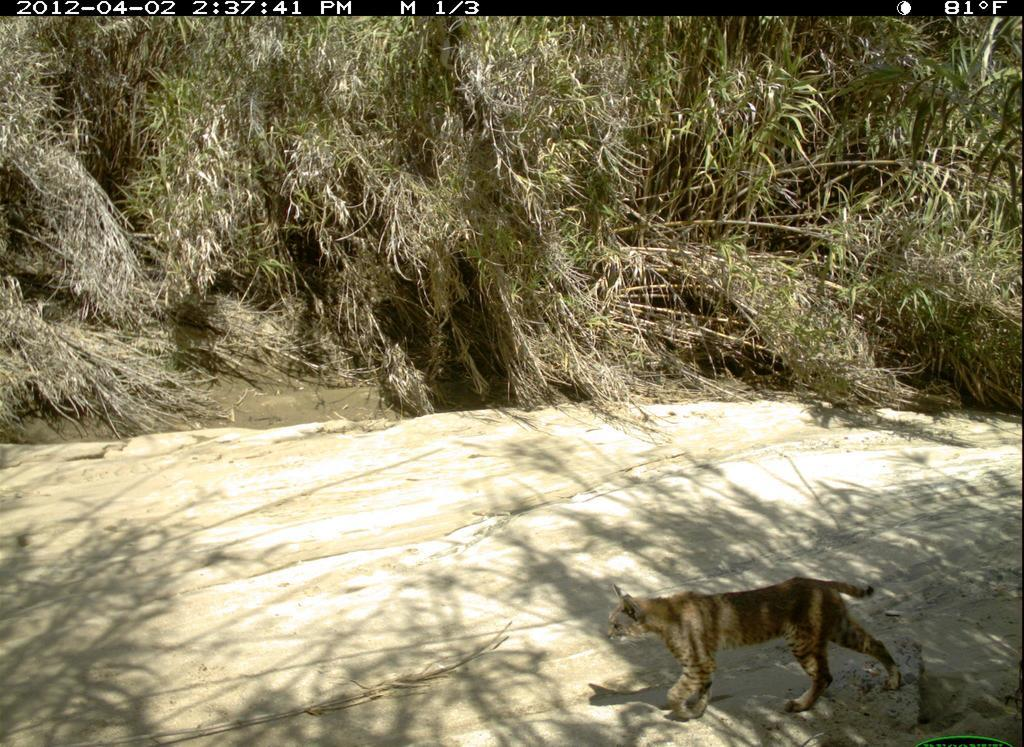bobcat: (601, 574, 914, 725)
